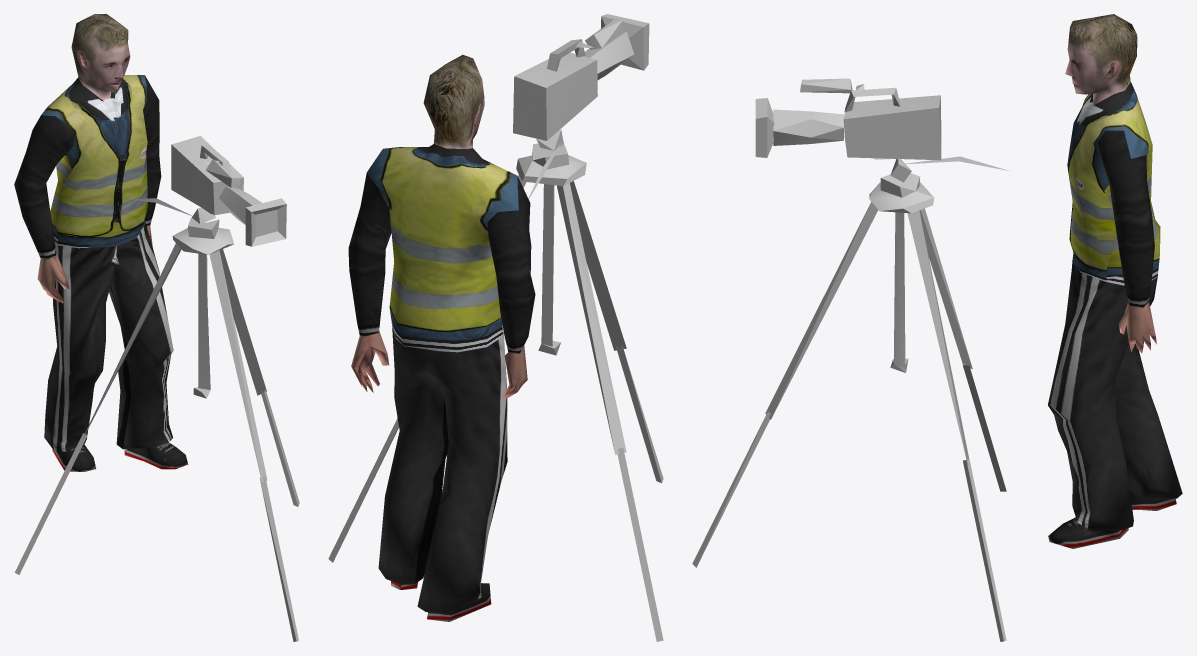
The model's file is CameraMan_LowPoly.fbx.
The picture shows the model from 3 angles, left to right: view 1: azimuth 30°, elevation 25°; view 2: azimuth 150°, elevation 25°; view 3: azimuth 270°, elevation 25°; orthographic projection. The views are drawn at different scales.
Parts seen in each view (by area): view 1: Man_LOD0.001, Camera.001; view 2: Man_LOD0.001, Camera.001; view 3: Man_LOD0.001, Camera.001.
Boxes of the visible parts, x1,y1,x2,y2 form: Man_LOD0.001: (14, 14, 188, 471); Camera.001: (14, 136, 299, 641); Man_LOD0.001: (348, 54, 535, 621); Camera.001: (328, 14, 663, 641); Man_LOD0.001: (1048, 14, 1182, 548); Camera.001: (692, 78, 1010, 641).
Bounding box in the file's own units: 1.19 × 1.96 × 1.61.
